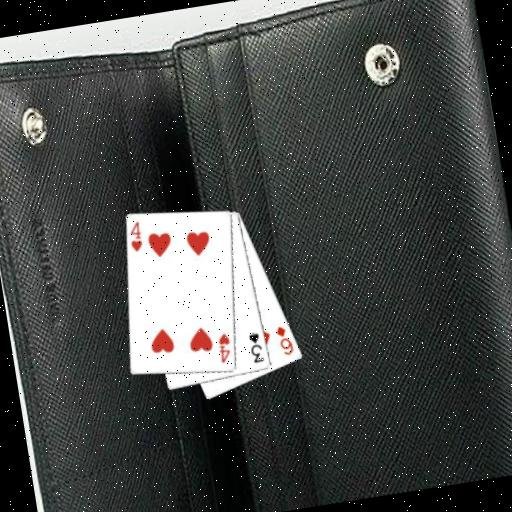3S: (245, 328, 266, 365)
4H: (213, 329, 235, 365), (124, 218, 146, 254)
6D: (272, 322, 296, 358)
